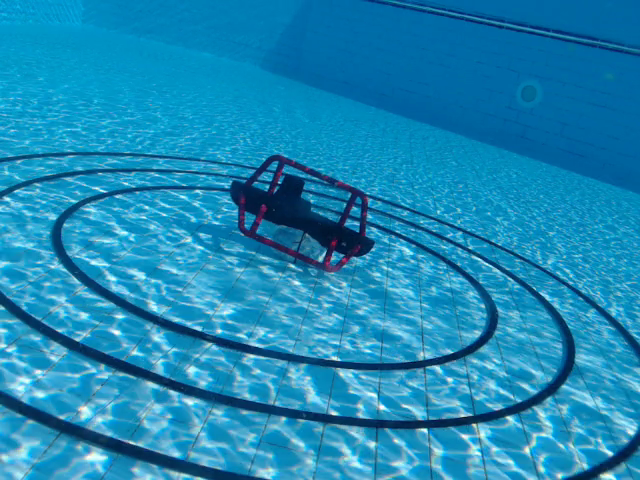submarine: (230, 153, 375, 274)
